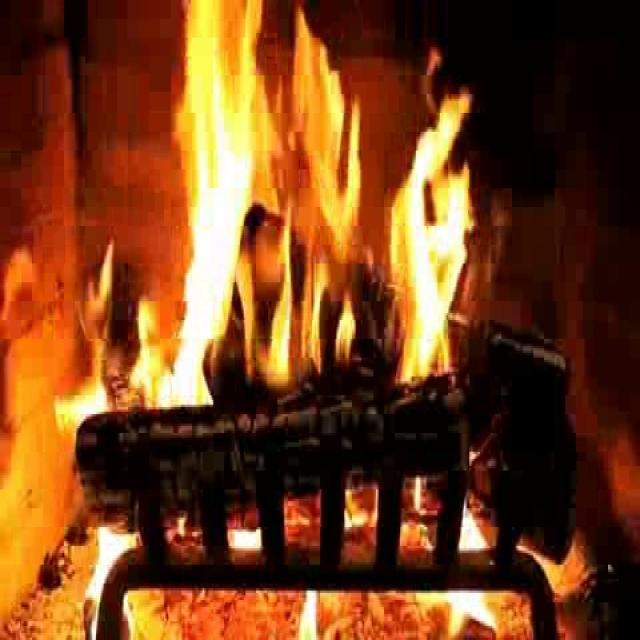Fire: (168, 19, 494, 414), (83, 541, 132, 617), (56, 371, 108, 433), (296, 588, 316, 640)
